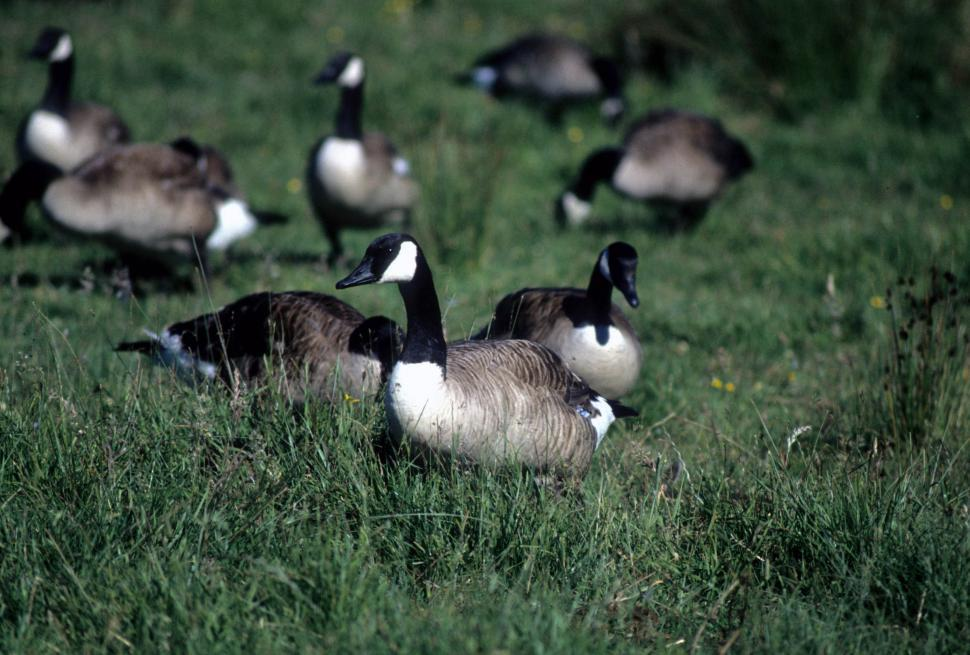goose: (334, 226, 645, 478), (549, 112, 755, 244), (303, 49, 423, 258)
